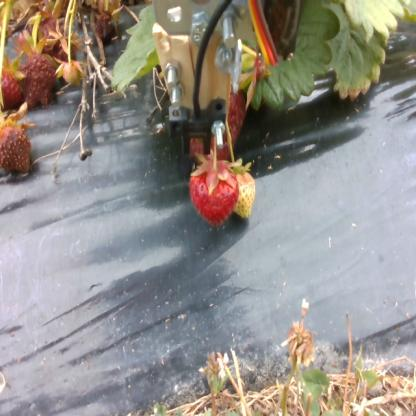ripe: (187, 161, 242, 225)
unripe: (231, 164, 257, 220)
